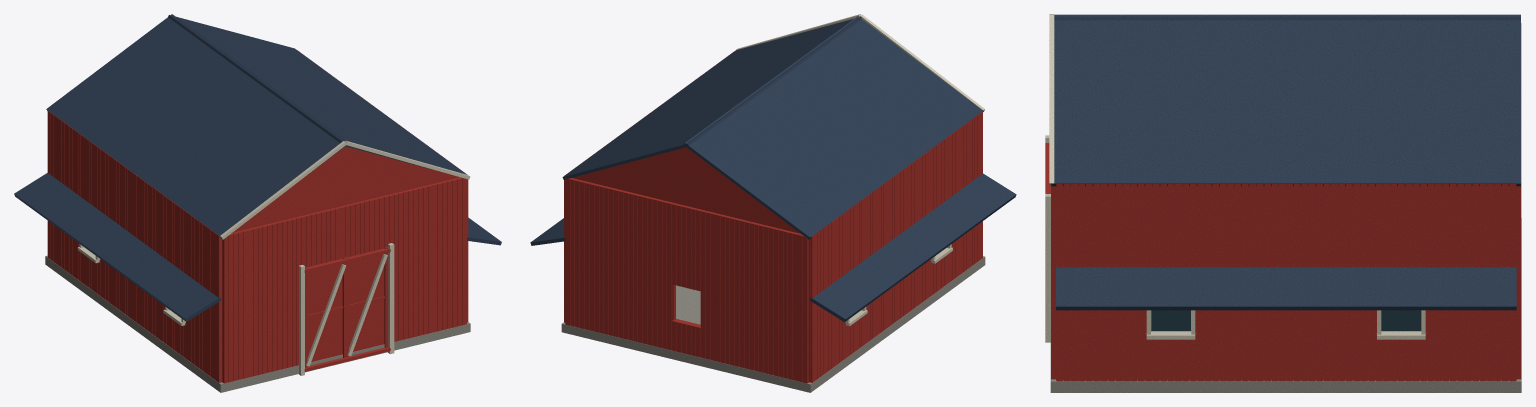
File: BARND2_lod2.glb
3 renders of one model, left to right at view 1: azimuth 30°, elevation 25°; view 2: azimuth 150°, elevation 25°; view 3: azimuth 270°, elevation 25°, orthographic. The views are drawn at different scales.
Parts seen in each view (by area): view 1: BARND2_LOD2; view 2: BARND2_LOD2; view 3: BARND2_LOD2.
Boxes of the visible parts, left/top/right/bottom form: BARND2_LOD2: left=14, top=14, right=501, bottom=392; BARND2_LOD2: left=530, top=14, right=1016, bottom=392; BARND2_LOD2: left=1045, top=14, right=1521, bottom=392.
Bounding box in the file's own units: 11.72 × 7.84 × 11.38.
Materials: 8 (6 with a texture image).
